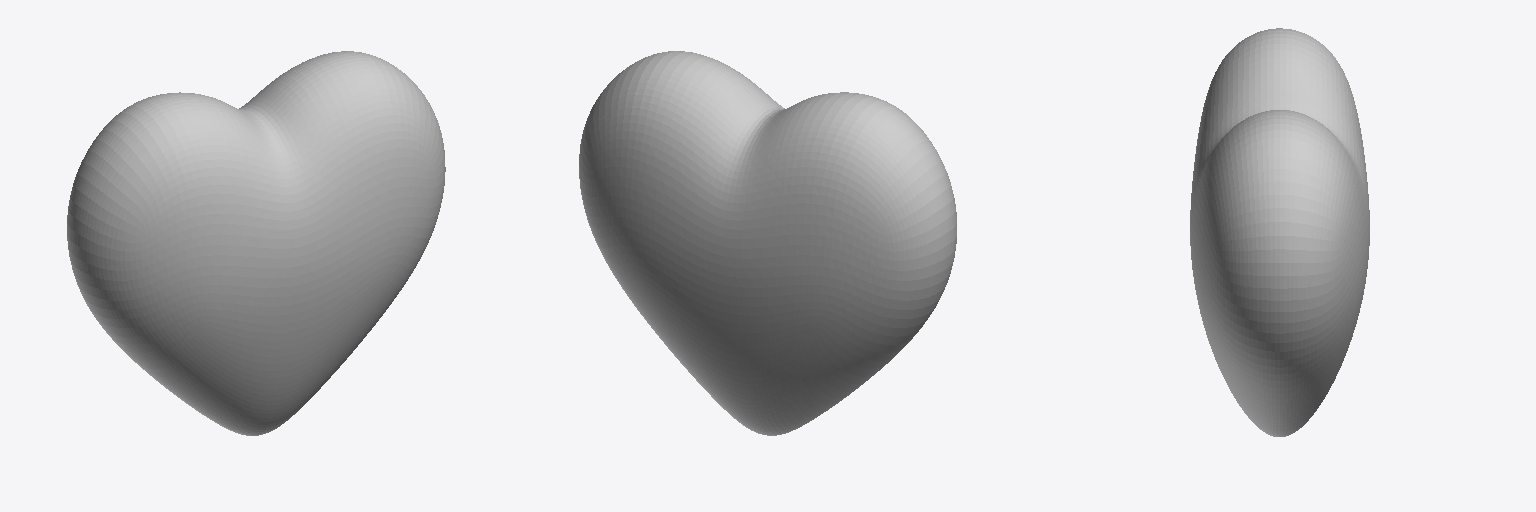
Rendered from heart.obj.
3 views of the same model, side by side, from view 1: azimuth 30°, elevation 25°; view 2: azimuth 150°, elevation 25°; view 3: azimuth 270°, elevation 25° (orthographic).
Parts seen in each view (by area): view 1: 12190_Heart_v1_L3; view 2: 12190_Heart_v1_L3; view 3: 12190_Heart_v1_L3.
Boxes of the visible parts, x1,y1,x2,y2 form: 12190_Heart_v1_L3: [67, 51, 445, 435]; 12190_Heart_v1_L3: [579, 51, 956, 435]; 12190_Heart_v1_L3: [1190, 28, 1369, 436].
Bounding box in the file's own units: 3.19 × 2.99 × 1.37.